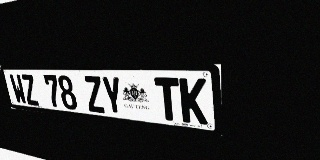7: (42, 75, 63, 109)
8: (56, 75, 78, 110)
K: (179, 78, 208, 125)
T: (154, 77, 181, 122)
W: (9, 74, 28, 105)
Y: (100, 76, 125, 115)
Z: (83, 76, 106, 113), (20, 74, 40, 106)
